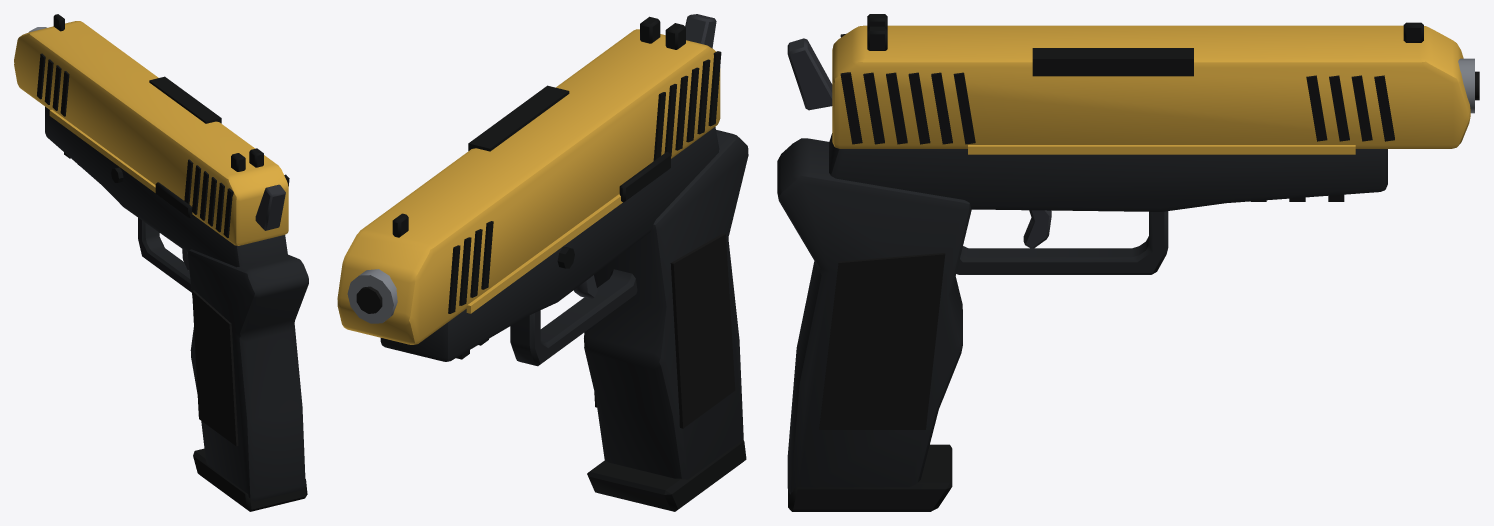
The model's file is gun_45.glb.
The picture shows the model from 3 angles, left to right: view 1: azimuth 30°, elevation 25°; view 2: azimuth 150°, elevation 25°; view 3: azimuth 270°, elevation 25°; orthographic projection. The views are drawn at different scales.
Visible parts, largest first — view 1: gun_45; view 2: gun_45; view 3: gun_45.
Boxes of the visible parts, x1,y1,x2,y2 form: gun_45: (14,14,308,511); gun_45: (337,14,748,511); gun_45: (777,14,1479,511).
Bounding box in the file's own units: 0.0419 × 0.2056 × 0.2781.
